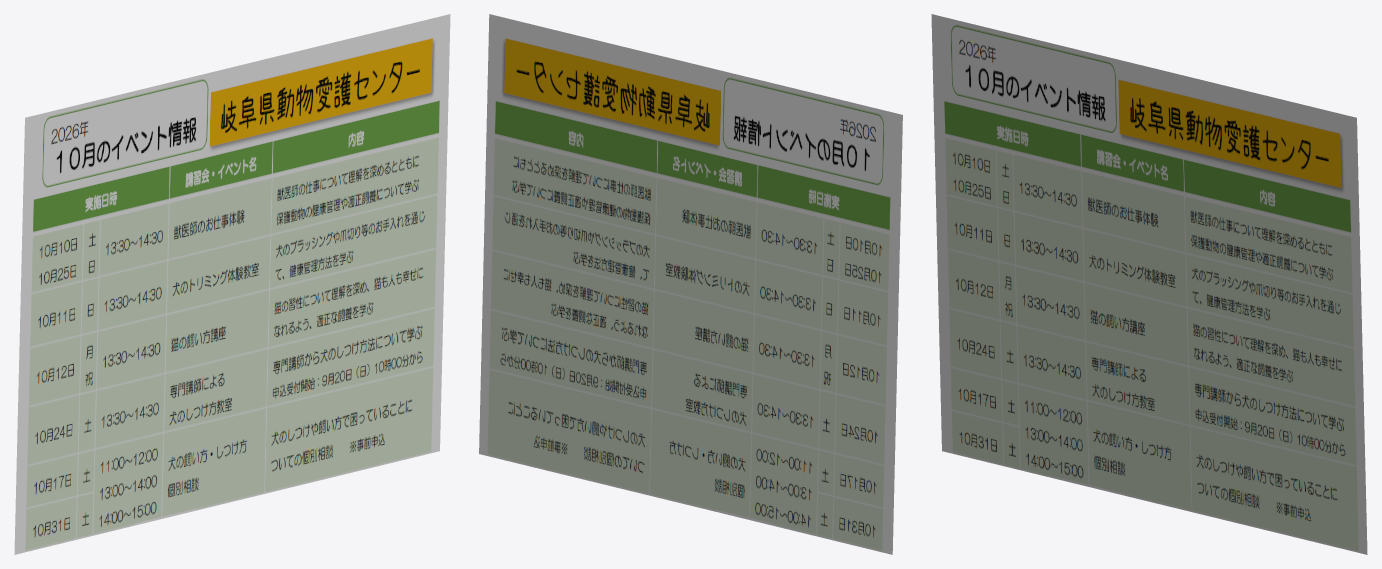
Rendered from event-board.glb.
The picture shows the model from 3 angles, left to right: view 1: azimuth 30°, elevation 25°; view 2: azimuth 150°, elevation 25°; view 3: azimuth 330°, elevation 25°; orthographic projection. The views are drawn at different scales.
Visible parts, largest first — view 1: LogoBoard; view 2: LogoBoard; view 3: LogoBoard.
Boxes of the visible parts, x1=… form: LogoBoard: x1=14, y1=14, x2=450, y2=554; LogoBoard: x1=479, y1=14, x2=902, y2=554; LogoBoard: x1=931, y1=14, x2=1367, y2=554.
Size of the model in its own units: 4 by 4 by 0.1714.
Materials: 1 (1 with a texture image).
